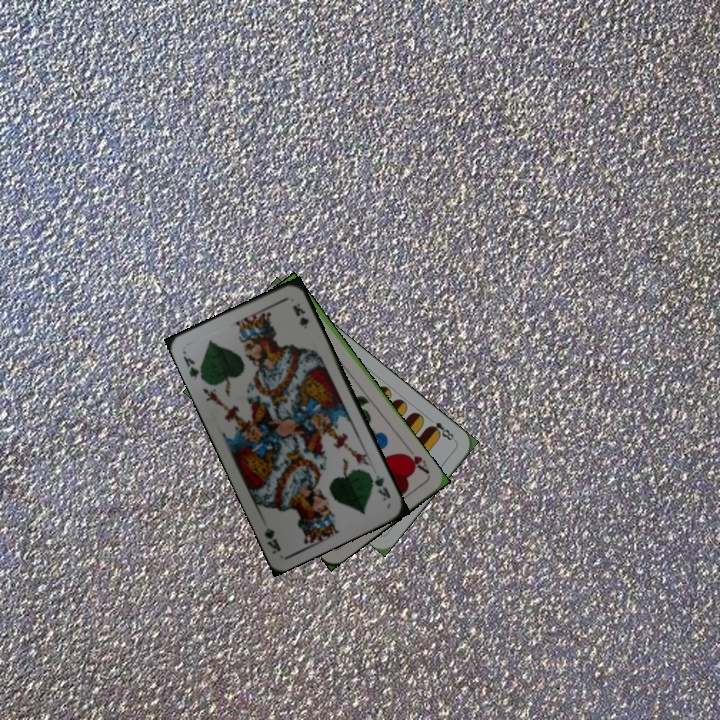E8: (424, 414, 458, 444)
GK: (364, 469, 393, 503), (179, 352, 207, 383)
HA: (400, 442, 432, 477)
